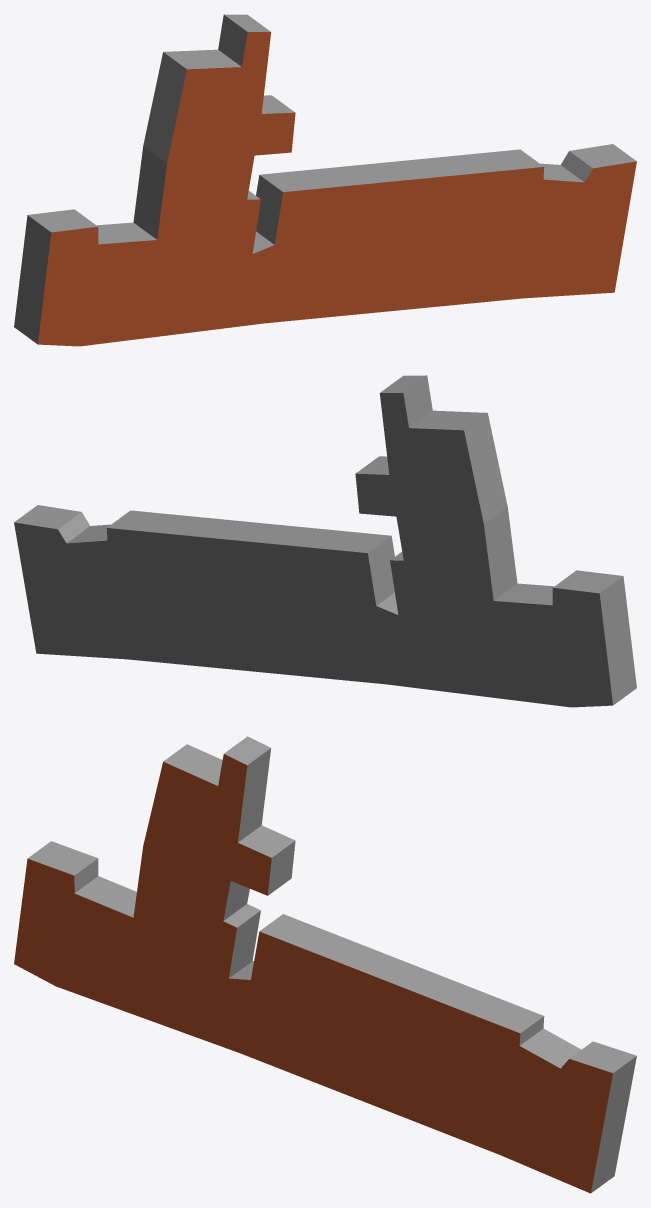
Rendered from construction_7091_assumed_A_Casa_h6m.obj.
The picture shows the model from 3 angles, top to bottom: view 1: azimuth 30°, elevation 25°; view 2: azimuth 150°, elevation 25°; view 3: azimuth 330°, elevation 25°; orthographic projection.
Parts seen in each view (by area): view 1: construction_7091_assumed_A_Casa; view 2: construction_7091_assumed_A_Casa; view 3: construction_7091_assumed_A_Casa.
Boxes of the visible parts, box(x1,y1,x2,y2) form: construction_7091_assumed_A_Casa: box(14, 14, 636, 346); construction_7091_assumed_A_Casa: box(14, 375, 636, 707); construction_7091_assumed_A_Casa: box(14, 736, 636, 1193).
Bounding box in the file's own units: 87.03 × 48.62 × 6.
